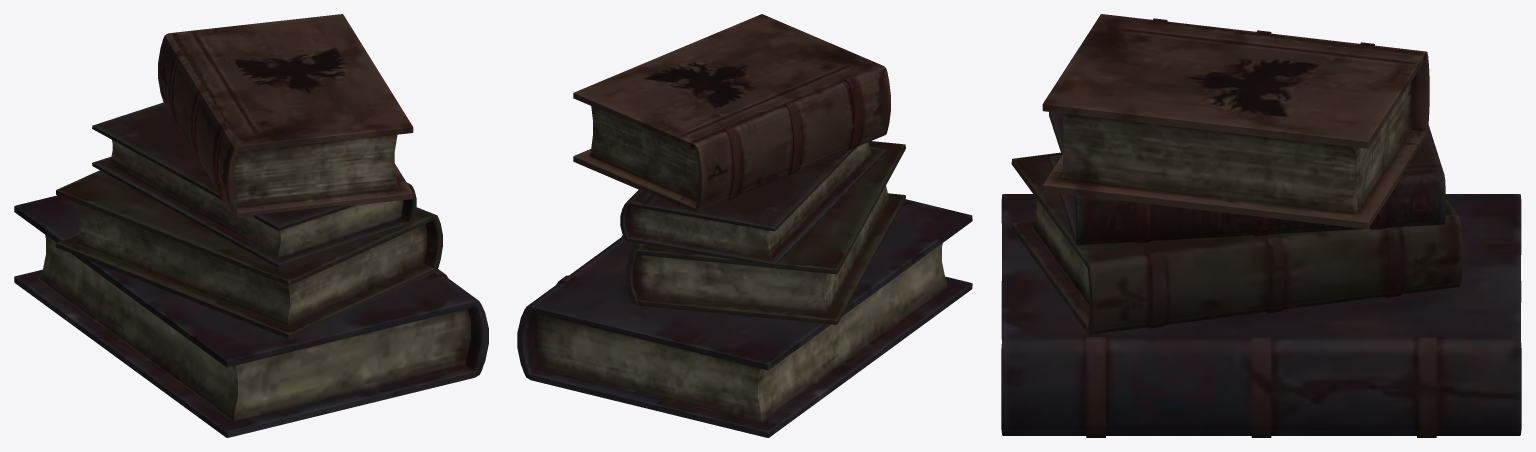
The model's file is medieval_book_stack.glb.
3 renders of one model, left to right at view 1: azimuth 30°, elevation 25°; view 2: azimuth 150°, elevation 25°; view 3: azimuth 270°, elevation 25°, orthographic. The views are drawn at different scales.
Parts seen in each view (by area): view 1: book1_low1; view 2: book1_low1; view 3: book1_low1.
Part boxes in pixels (x1,y1,x2,y2): book1_low1: (14,14,488,437); book1_low1: (517,14,972,437); book1_low1: (1001,14,1521,437).
Size of the model in its own units: 31.39 by 26.96 by 41.25.
Materials: 1 (1 with a texture image).
